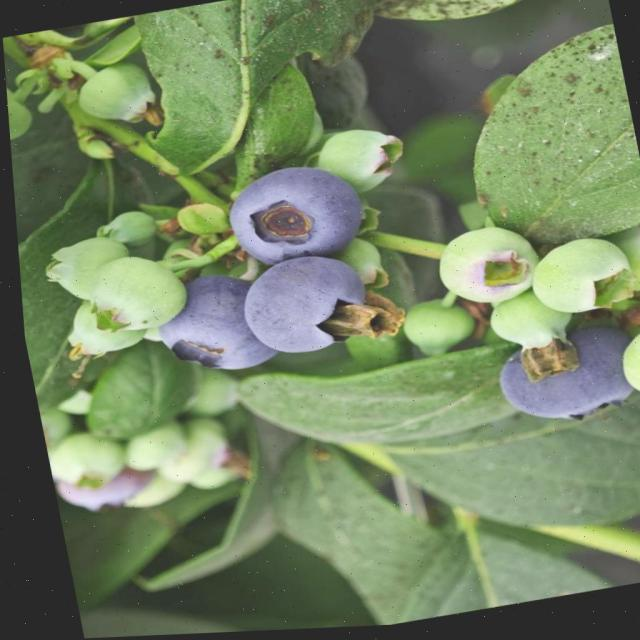RipeBlueBerry: (214, 158, 370, 274), (226, 250, 376, 367), (484, 322, 636, 434), (142, 266, 272, 384)
UnripeBlueBerry: (424, 222, 540, 317), (516, 236, 636, 326), (78, 249, 188, 340), (311, 125, 410, 204), (479, 292, 573, 368), (71, 58, 160, 133), (390, 298, 474, 369)
